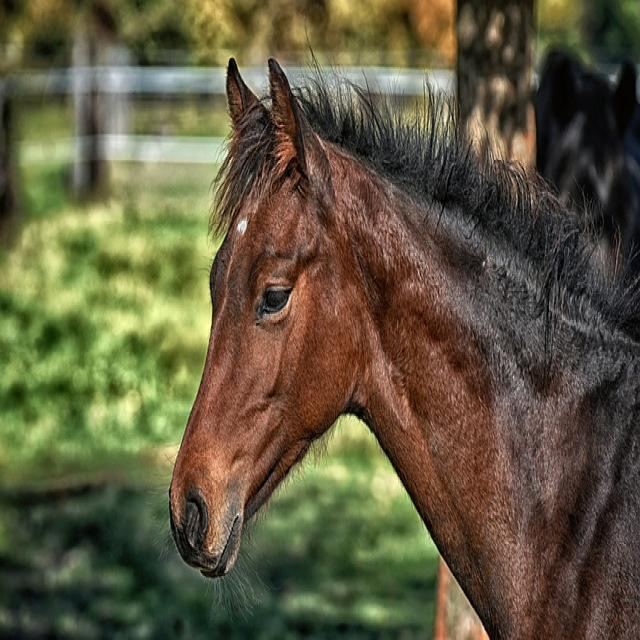Herbivorous: (168, 55, 640, 640)
